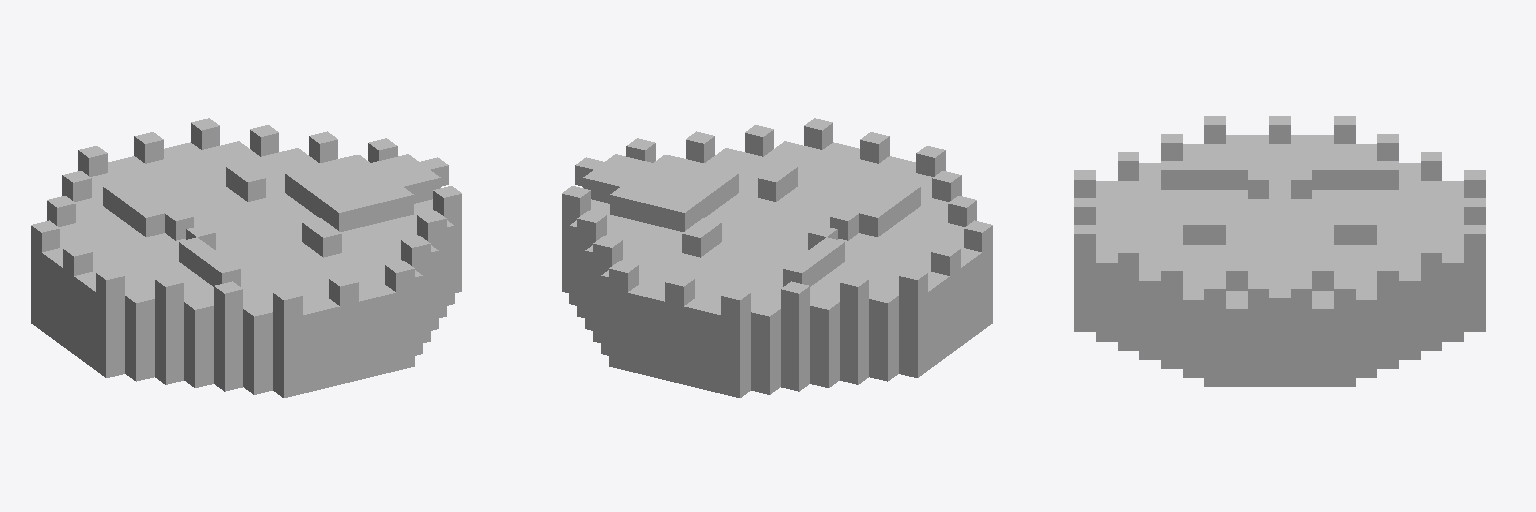
Rendered from Penguin.obj.
The picture shows the model from 3 angles: view 1: azimuth 30°, elevation 25°; view 2: azimuth 150°, elevation 25°; view 3: azimuth 270°, elevation 25°; orthographic projection.
Parts seen in each view (by area): view 1: object 1; view 2: object 1; view 3: object 1.
Part boxes in pixels (left/top/right/bottom): object 1: left=31, top=118, right=461, bottom=397; object 1: left=562, top=118, right=992, bottom=397; object 1: left=1074, top=116, right=1485, bottom=386.
Bounding box in the file's own units: 2 × 0.5 × 1.9.